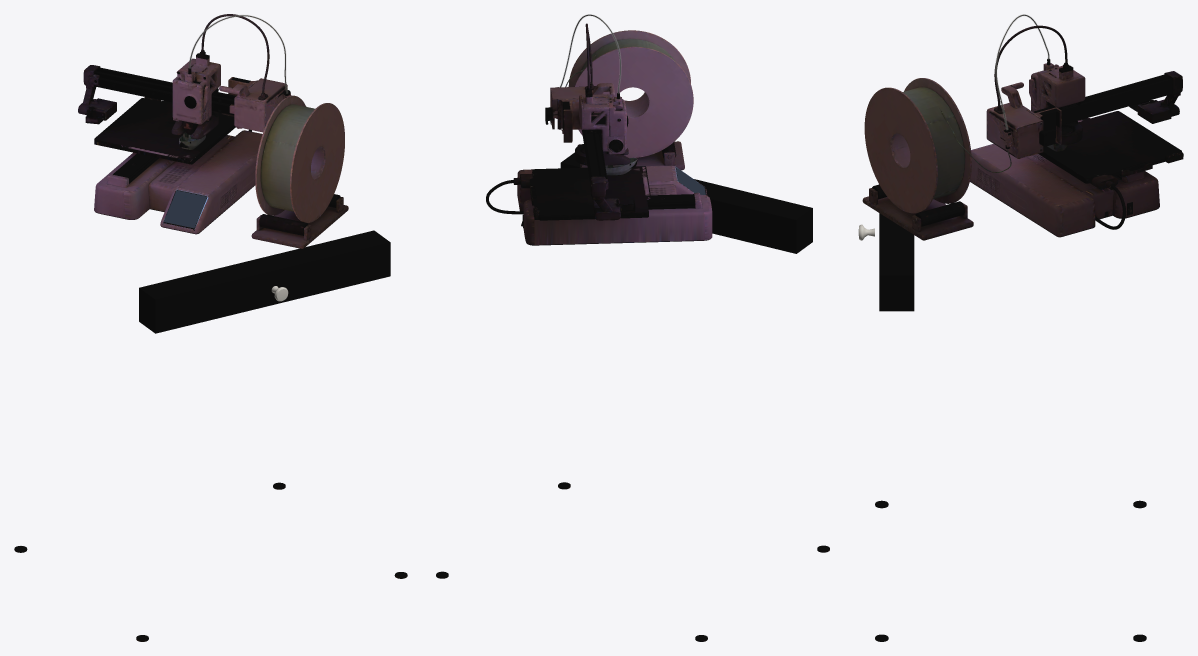
File: bambu_mini.glb
3 views of the same model, side by side, from view 1: azimuth 30°, elevation 25°; view 2: azimuth 150°, elevation 25°; view 3: azimuth 270°, elevation 25° (orthographic). The views are drawn at different scales.
Parts seen in each view (by area): view 1: bambu_mini_printer__mesh, bambu_mini_table_parts__mesh, bambu_mini_spool_stand__mesh, bambu_mini_screen; view 2: bambu_mini_printer__mesh, bambu_mini_spool_stand__mesh, bambu_mini_table_parts__mesh; view 3: bambu_mini_printer__mesh, bambu_mini_spool_stand__mesh, bambu_mini_table_parts__mesh.
Part boxes in pixels (box(x1,y1,x2,y2)): bambu_mini_printer__mesh: box(78, 14, 306, 234); bambu_mini_table_parts__mesh: box(14, 230, 407, 641); bambu_mini_spool_stand__mesh: box(251, 95, 348, 248); bambu_mini_screen: box(163, 190, 206, 228); bambu_mini_printer__mesh: box(486, 14, 712, 245); bambu_mini_spool_stand__mesh: box(568, 30, 693, 170); bambu_mini_table_parts__mesh: box(436, 152, 829, 641); bambu_mini_printer__mesh: box(941, 14, 1183, 237); bambu_mini_spool_stand__mesh: box(862, 78, 973, 240); bambu_mini_table_parts__mesh: box(858, 213, 1146, 641).
Bounding box in the file's own units: 0.5088 × 0.9723 × 0.5012.
Materials: 4 (3 with a texture image).
